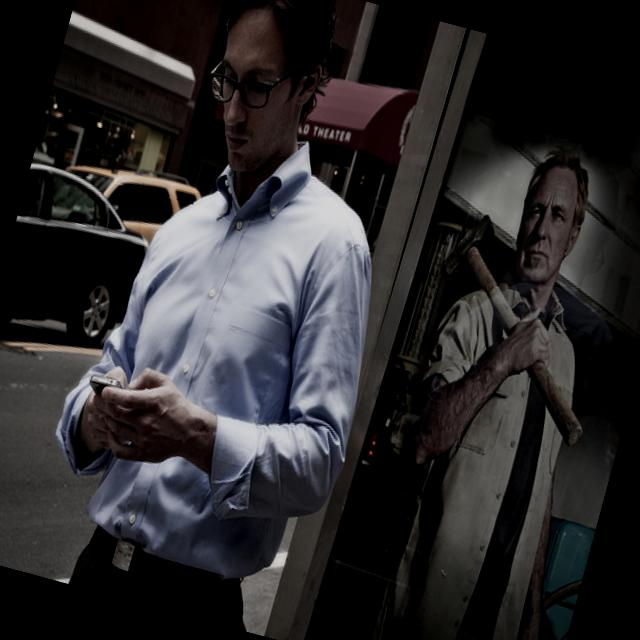Vehicle: (0, 153, 162, 357), (52, 148, 203, 253)
